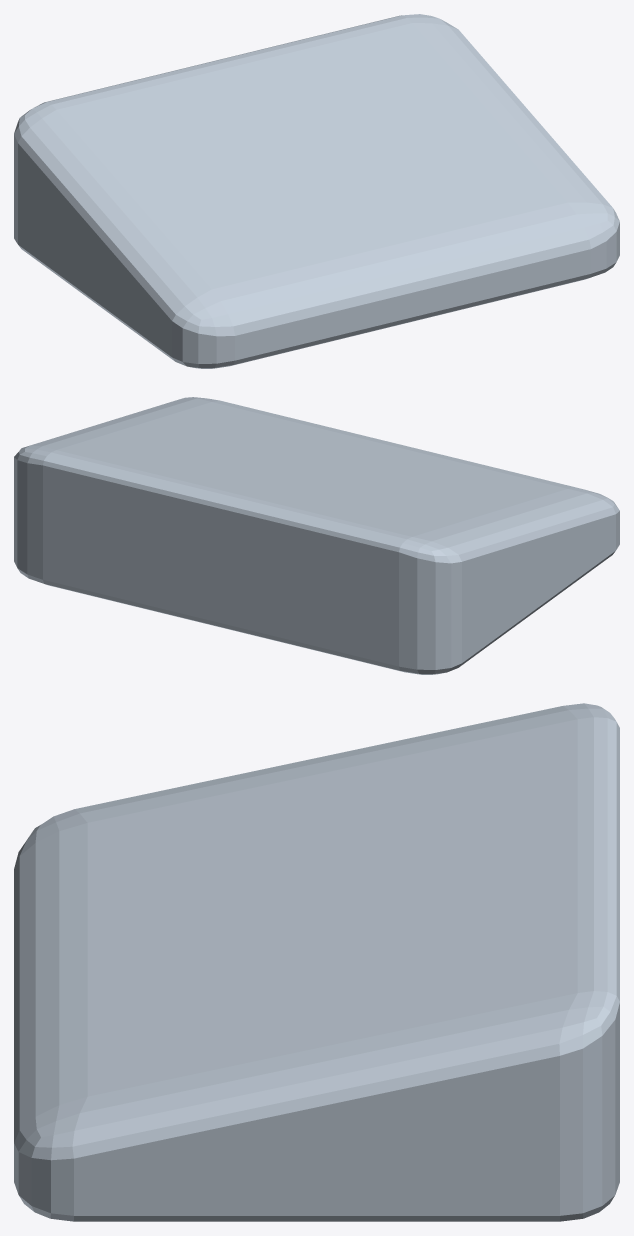
The model's file is MadBay-pillow.glb.
The picture shows the model from 3 angles, top to bottom: view 1: azimuth 30°, elevation 25°; view 2: azimuth 150°, elevation 25°; view 3: azimuth 270°, elevation 25°; orthographic projection. The views are drawn at different scales.
Visible parts, largest first — view 1: Cube; view 2: Cube; view 3: Cube.
Boxes of the visible parts, left/top/right/bottom form: Cube: left=14, top=14, right=619, bottom=368; Cube: left=14, top=397, right=619, bottom=674; Cube: left=14, top=703, right=619, bottom=1221.
Size of the model in its own units: 4 by 1.16 by 3.
